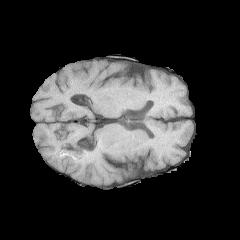glioma: (57, 143, 97, 173)
